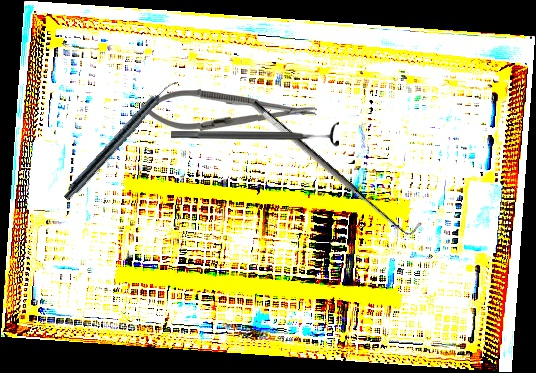Fixation Ring: (171, 121, 339, 148)
Handpiece: (61, 74, 180, 205)
Hook Surgical: (248, 88, 424, 245)
Needle Holder: (140, 88, 318, 134)
